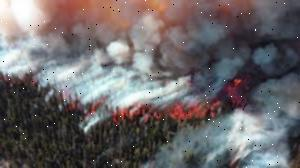fire: (6, 74, 248, 124)
